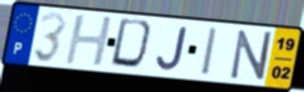3: (32, 10, 72, 64)
D: (108, 16, 158, 72)
H: (63, 14, 115, 68)
I: (200, 26, 220, 78)
J: (154, 24, 191, 73)
N: (229, 29, 274, 82)
